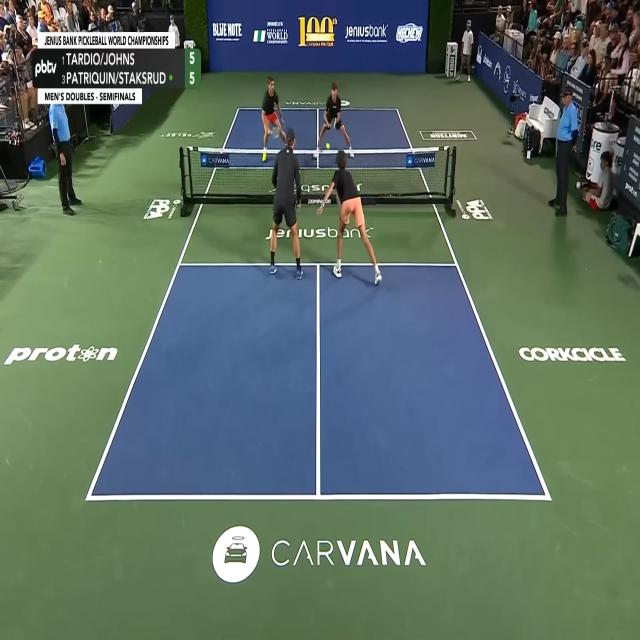ball: (326, 142, 330, 150)
